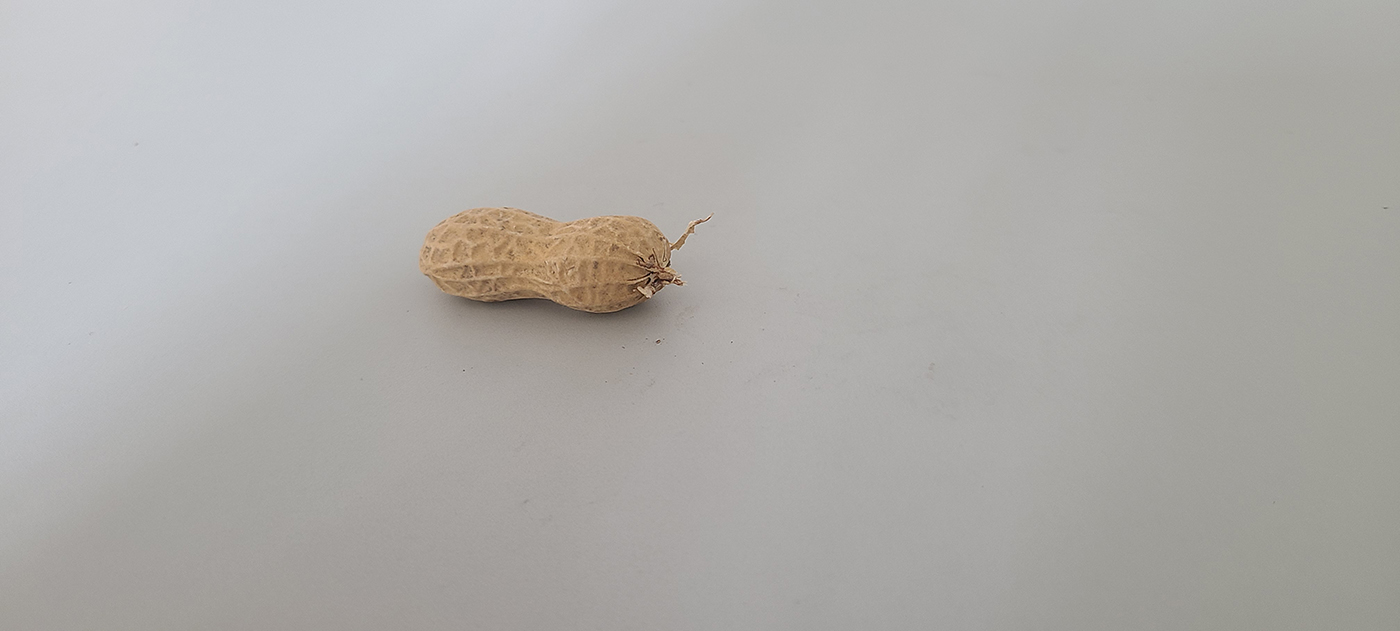h: (419, 205, 678, 317)
